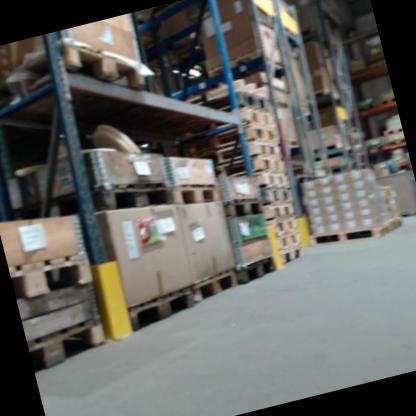pallet: (0, 19, 150, 124), (25, 315, 112, 375), (8, 245, 96, 303), (89, 168, 177, 224), (125, 285, 202, 333), (187, 121, 277, 162), (309, 216, 392, 254), (213, 136, 282, 172), (206, 88, 273, 125), (219, 151, 288, 186), (170, 175, 223, 214), (191, 268, 243, 307), (235, 254, 278, 285), (223, 195, 264, 223), (239, 103, 275, 132), (261, 183, 293, 208), (257, 168, 290, 191), (265, 199, 296, 221), (279, 245, 307, 266), (276, 230, 304, 251), (273, 216, 300, 236), (383, 126, 403, 136), (378, 96, 396, 106)
stillage: (371, 163, 416, 228)
